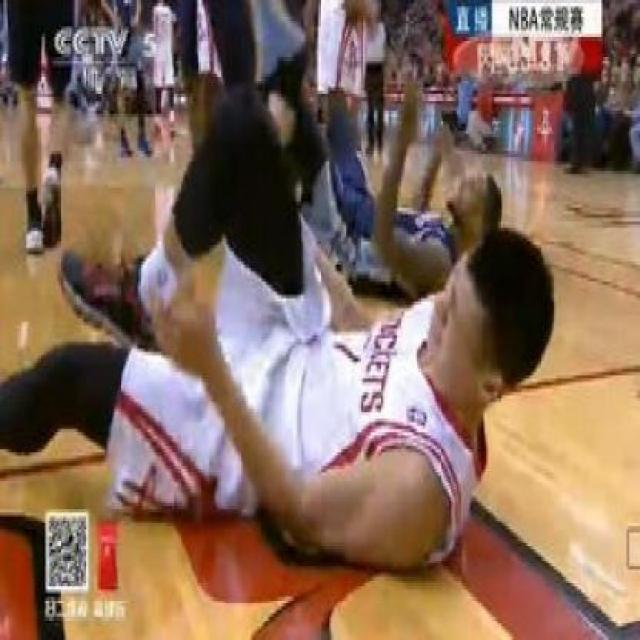fall: (0, 164, 572, 600)
